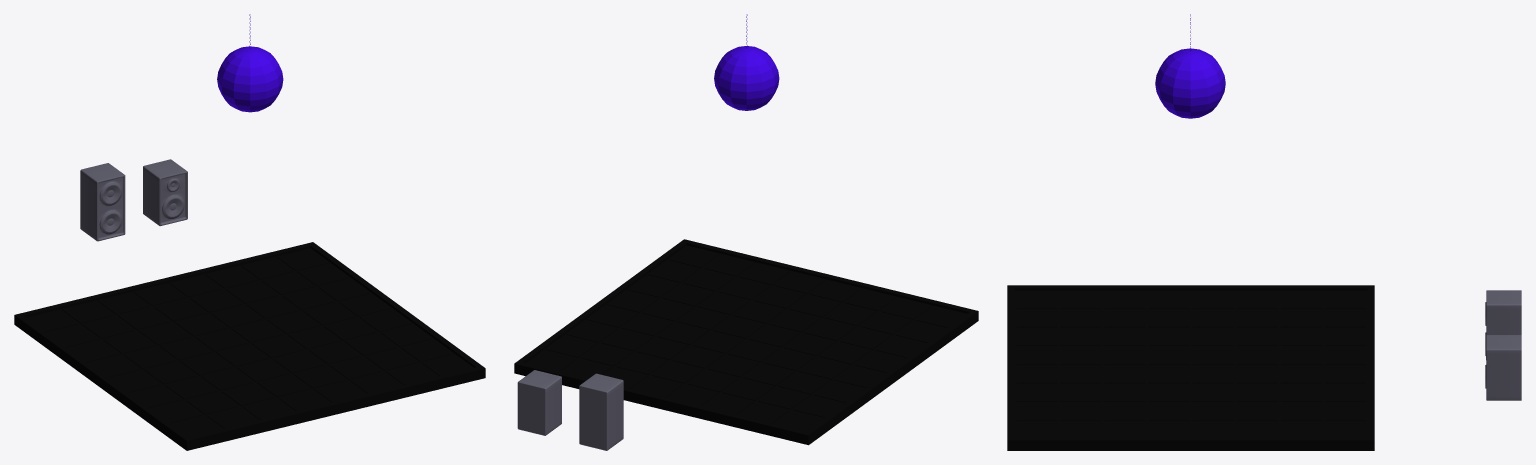
File: DiscoDeco.fbx
The picture shows the model from 3 angles, left to right: view 1: azimuth 30°, elevation 25°; view 2: azimuth 150°, elevation 25°; view 3: azimuth 270°, elevation 25°; orthographic projection. The views are drawn at different scales.
Parts seen in each view (by area): view 1: DanceFloor, discoBall, SpeakerTall, SpeakerTall2; view 2: DanceFloor, discoBall, SpeakerTall, SpeakerTall2; view 3: DanceFloor, discoBall, SpeakerTall2, SpeakerTall.
Boxes of the visible parts, <box> form: DanceFloor: <box>14,242,485,450</box>; discoBall: <box>217,14,283,112</box>; SpeakerTall: <box>80,163,125,241</box>; SpeakerTall2: <box>143,159,187,226</box>; DanceFloor: <box>514,239,978,445</box>; discoBall: <box>714,14,779,110</box>; SpeakerTall: <box>579,373,623,450</box>; SpeakerTall2: <box>517,370,561,435</box>; DanceFloor: <box>1007,285,1374,450</box>; discoBall: <box>1155,14,1225,118</box>; SpeakerTall2: <box>1485,335,1521,400</box>; SpeakerTall: <box>1485,290,1521,355</box>.
Size of the model in its own units: 10.4 by 11.23 by 14.56.
